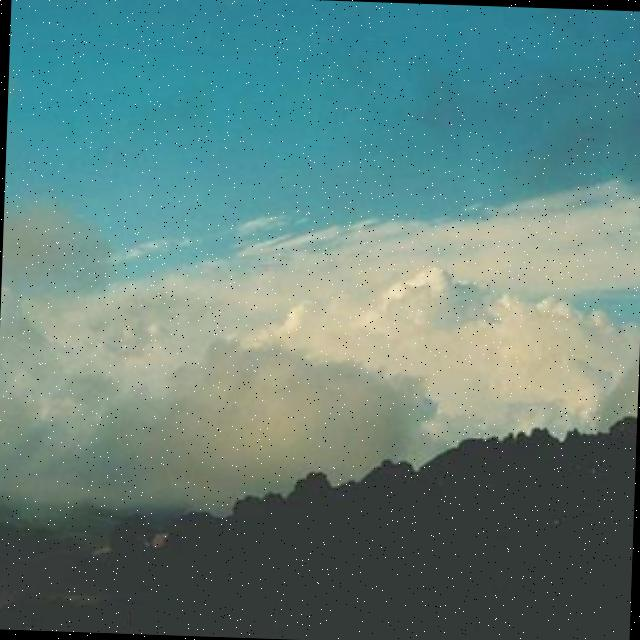St: (1, 158, 640, 449)
